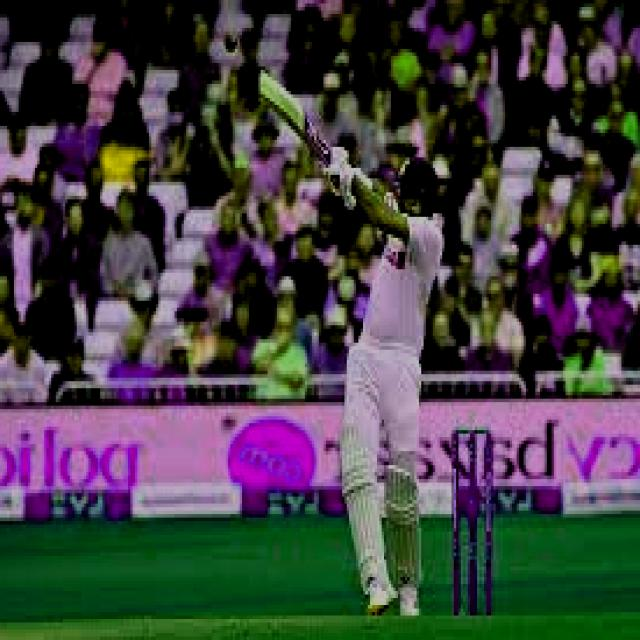toe: (258, 67, 265, 110)
